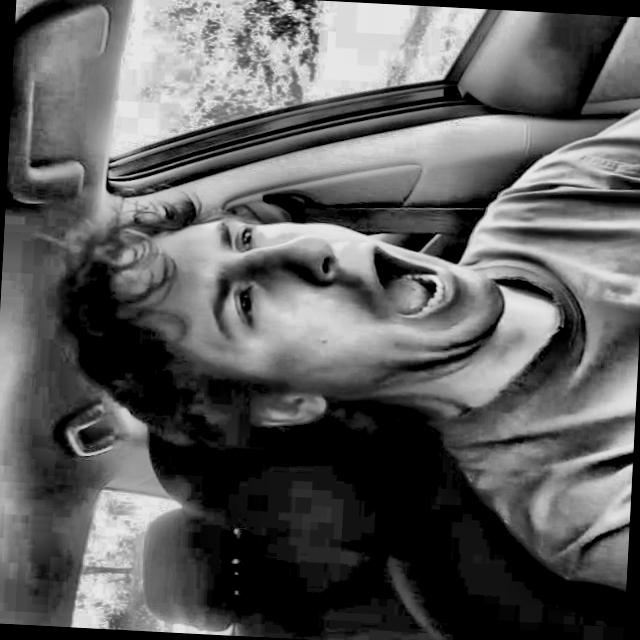open_eyes: (218, 277, 278, 339), (219, 215, 267, 261)
open_mouth: (350, 231, 466, 328)
